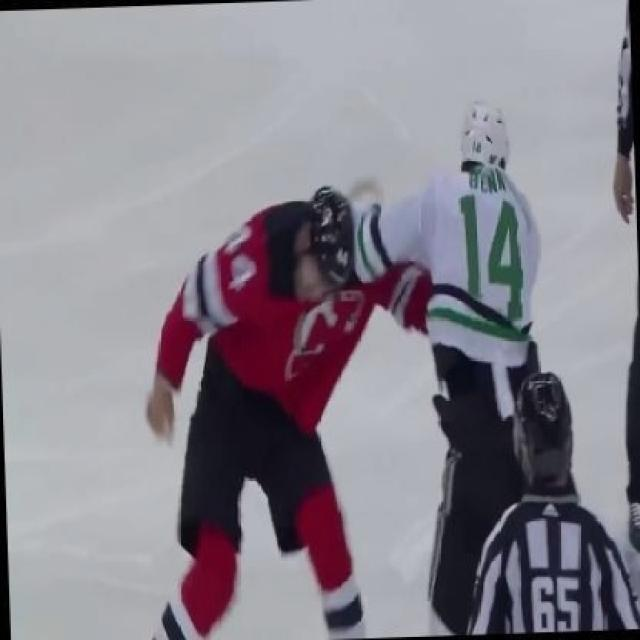fight: (121, 105, 551, 637)
non-fight: (463, 369, 639, 637)
